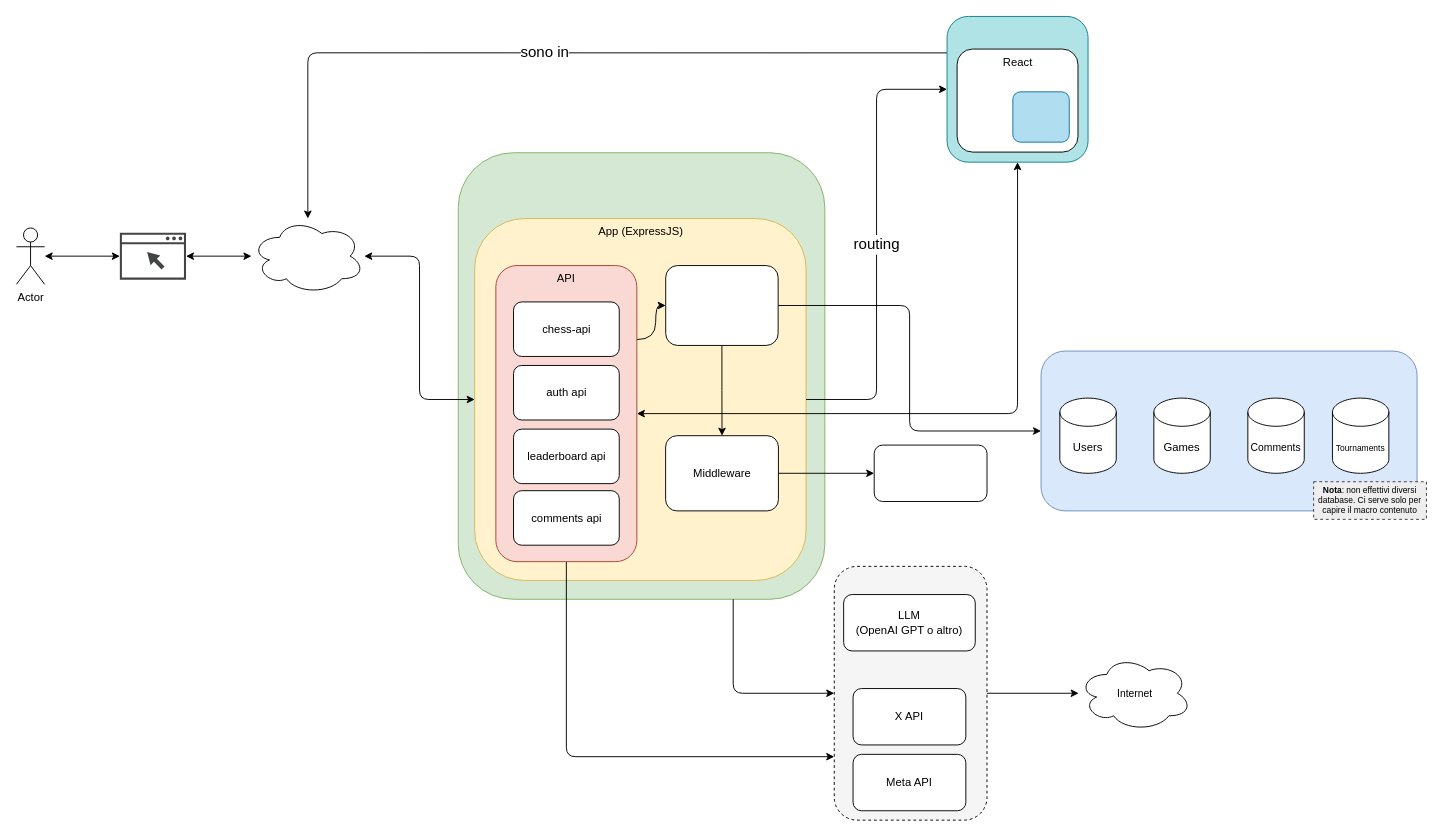
Image size: 1443x837. Some labels were removed from this diagram. Each missing label, with the box of its shape:
API esterne: (833, 565, 987, 820)
Backend: (665, 265, 778, 345)
Browser: (119, 232, 186, 279)
DISI Unibo: (251, 218, 364, 294)
MUI: (1012, 91, 1069, 142)
MySQL: (1040, 350, 1417, 511)
NodeJS: (457, 152, 825, 599)
src/ con pagine web: (946, 16, 1088, 162)
Token authorization checker: (873, 444, 987, 501)
